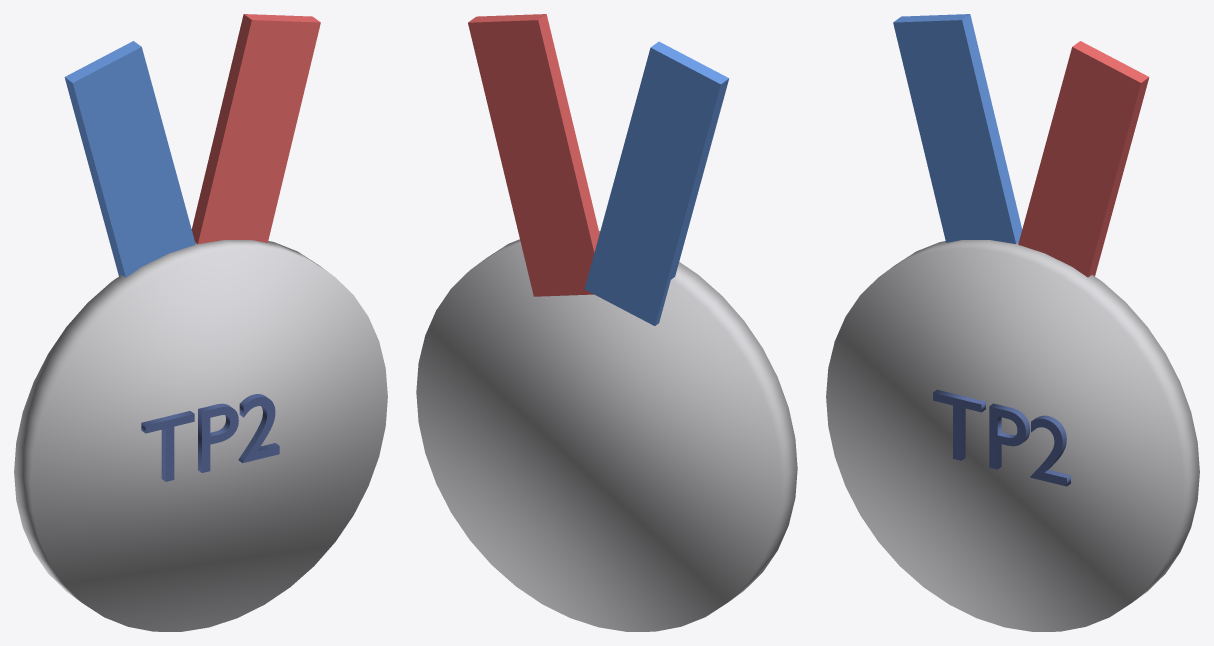
File: ui_medal_tp2.glb
The picture shows the model from 3 angles, left to right: view 1: azimuth 30°, elevation 25°; view 2: azimuth 150°, elevation 25°; view 3: azimuth 330°, elevation 25°; orthographic projection.
Visible parts, largest first — view 1: medal_disc, medal_ribbon1, medal_ribbon0, medal_num; view 2: medal_disc, medal_ribbon1, medal_ribbon0; view 3: medal_disc, medal_ribbon0, medal_ribbon1, medal_num.
Boxes of the visible parts, bbox=[...] form: medal_disc: bbox=[14, 240, 387, 631]; medal_ribbon1: bbox=[191, 14, 320, 243]; medal_ribbon0: bbox=[64, 41, 195, 277]; medal_num: bbox=[141, 394, 279, 481]; medal_disc: bbox=[416, 231, 797, 631]; medal_ribbon1: bbox=[468, 14, 599, 296]; medal_ribbon0: bbox=[584, 41, 729, 325]; medal_disc: bbox=[826, 240, 1199, 631]; medal_ribbon0: bbox=[893, 14, 1022, 243]; medal_ribbon1: bbox=[1018, 41, 1149, 277]; medal_num: bbox=[933, 389, 1070, 486].
Size of the model in its own units: 0.05 by 0.0782 by 0.006.
